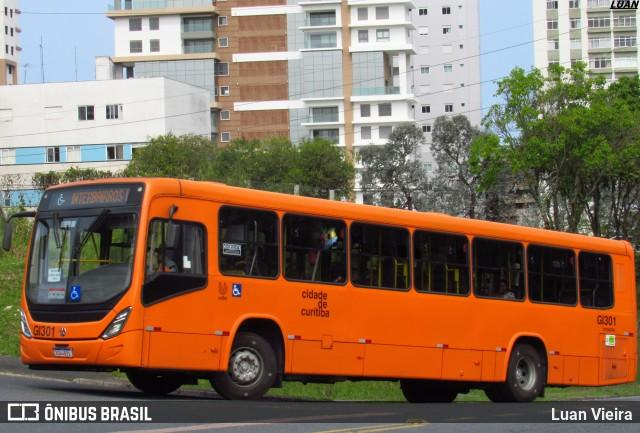INTERBAIRROS I: (67, 186, 133, 207)
